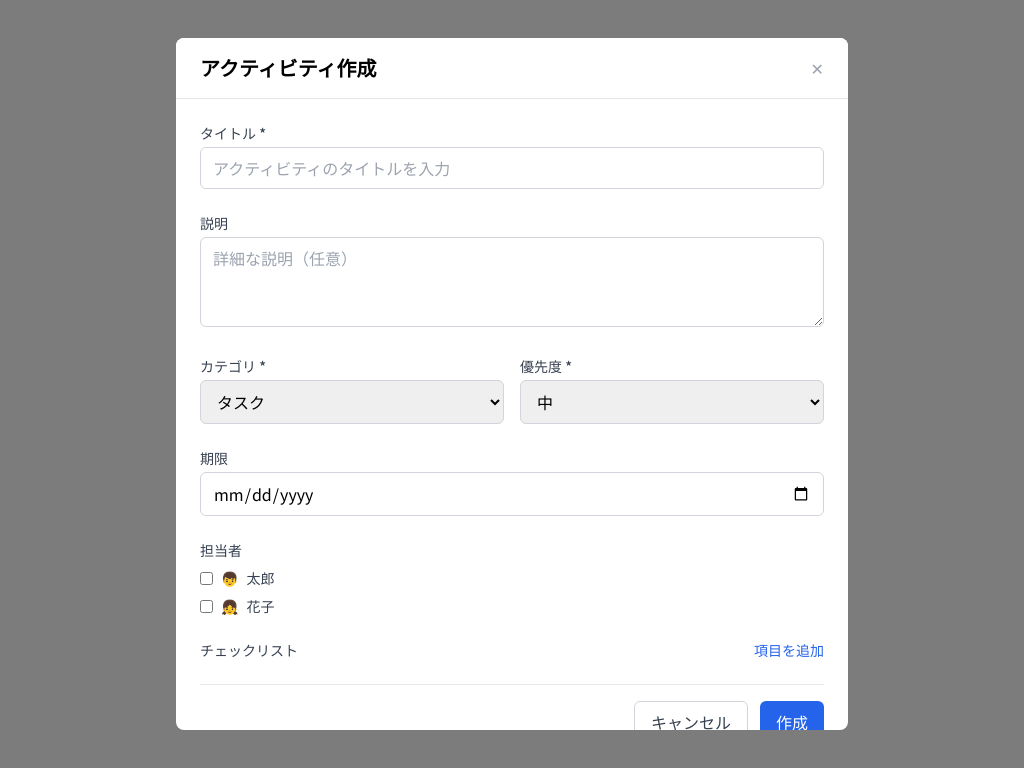
Test: ActivityForm › form rendering › should show validation errors for required fields
Click the button "作成" at {"x": 792, "y": 722}, box [760,701,824,743]
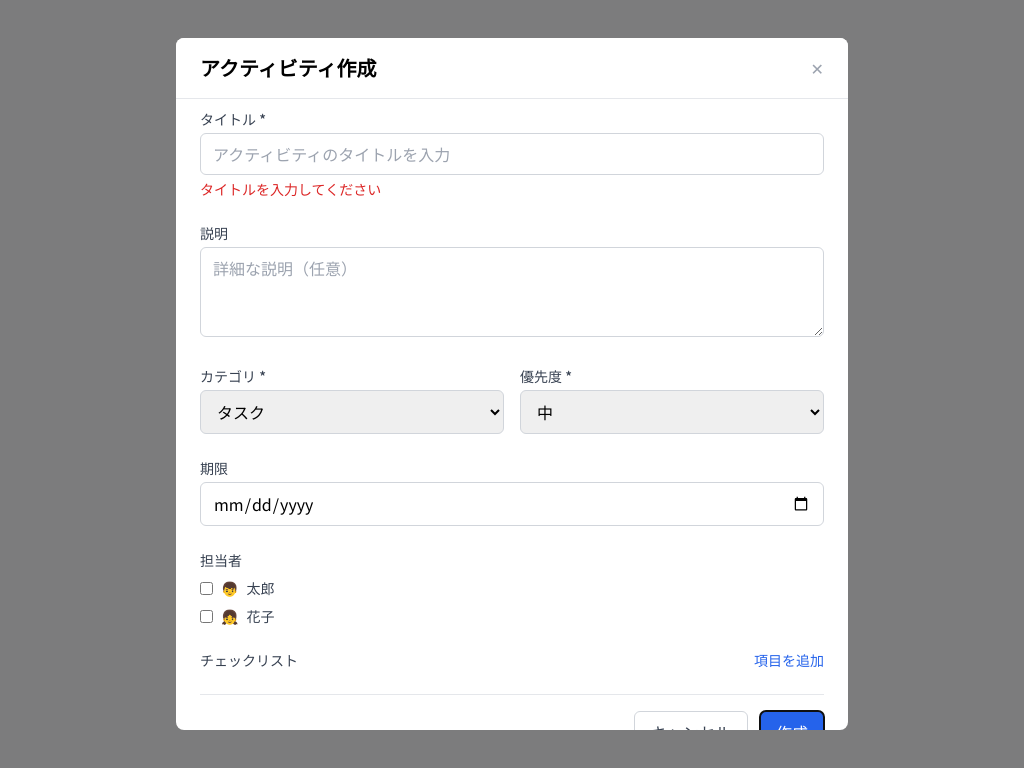
Check: the text "タイトルを入力してください" is shown, box [200,179,381,199]
